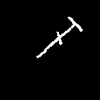double_crochet: (37, 17, 81, 57)
